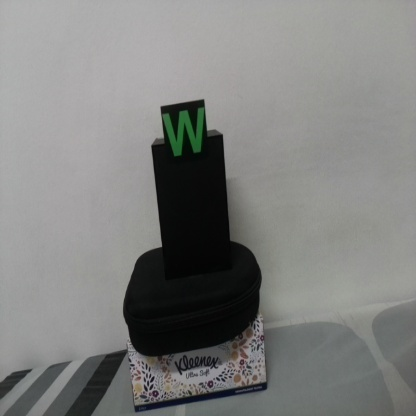id_12: (161, 104, 208, 165)
